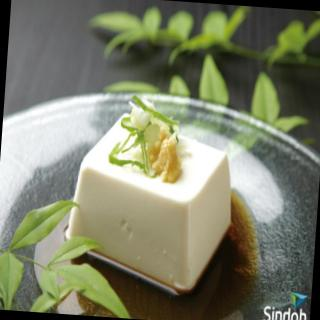Tahu: (61, 96, 266, 295)
